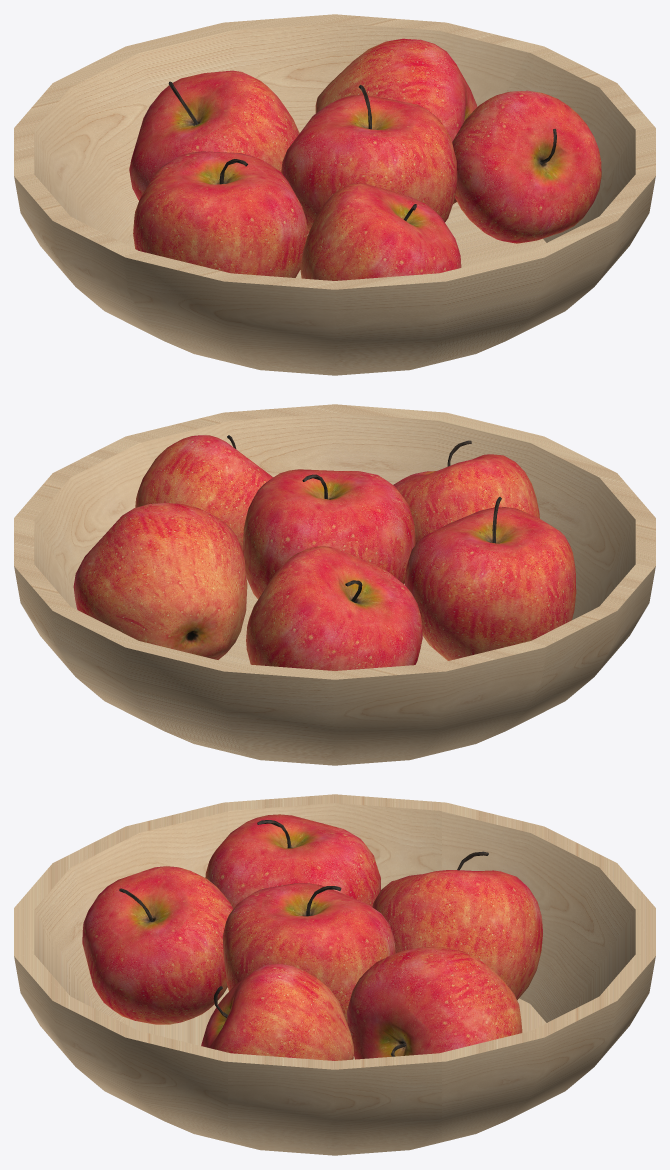
Rendered from Fruit.FBX.
3 renders of one model, top to bottom at view 1: azimuth 30°, elevation 25°; view 2: azimuth 150°, elevation 25°; view 3: azimuth 270°, elevation 25°, orthographic.
Parts seen in each view (by area): view 1: platter, Apple 6, Apple 4, Apple 3, Apple 1, Apple 5, Apple 2; view 2: platter, Apple 2, Apple 4, Apple 1, Apple 3, Apple 6, Apple 5; view 3: platter, Apple 5, Apple 2, Apple 3, Apple 1, Apple 4, Apple 6.
Part boxes in pixels (x1=…): platter: x1=14, y1=14, x2=655, y2=375; Apple 6: x1=452, y1=90, x2=601, y2=243; Apple 4: x1=133, y1=151, x2=307, y2=277; Apple 3: x1=281, y1=85, x2=457, y2=233; Apple 1: x1=129, y1=70, x2=299, y2=200; Apple 5: x1=300, y1=183, x2=461, y2=280; Apple 2: x1=315, y1=38, x2=477, y2=203; platter: x1=14, y1=404, x2=655, y2=765; Apple 2: x1=73, y1=503, x2=247, y2=659; Apple 4: x1=404, y1=497, x2=576, y2=660; Apple 1: x1=246, y1=546, x2=422, y2=670; Apple 3: x1=242, y1=469, x2=415, y2=598; Apple 6: x1=135, y1=435, x2=273, y2=550; Apple 5: x1=393, y1=440, x2=539, y2=544; platter: x1=14, y1=794, x2=655, y2=1155; Apple 5: x1=82, y1=866, x2=233, y2=1024; Apple 2: x1=347, y1=947, x2=522, y2=1059; Apple 3: x1=222, y1=883, x2=395, y2=1022; Apple 1: x1=372, y1=851, x2=542, y2=1000; Apple 4: x1=205, y1=814, x2=380, y2=908; Apple 6: x1=201, y1=963, x2=353, y2=1060.
Size of the model in its own units: 231 by 74.34 by 228.
Materials: 2 (2 with a texture image).
